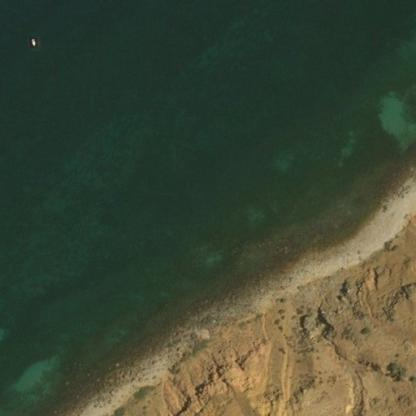ship: (30, 37, 35, 45)
